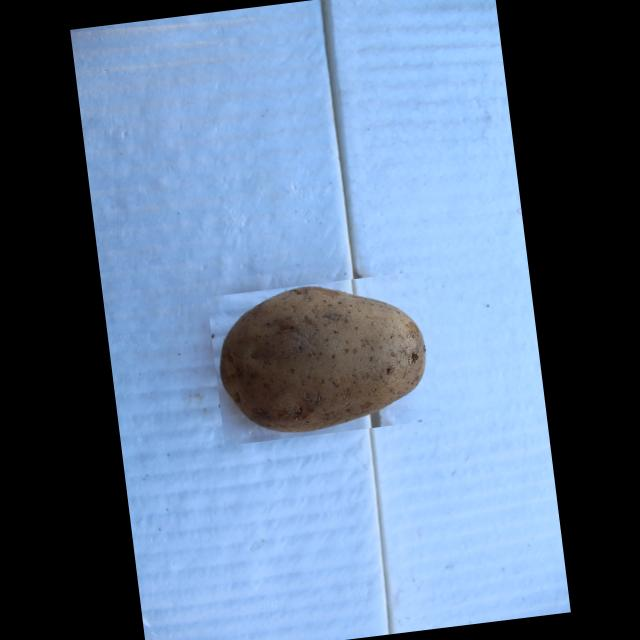Diseased-fungal potato: (206, 270, 441, 444)
